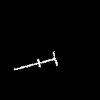double_crochet: (14, 52, 56, 69)
